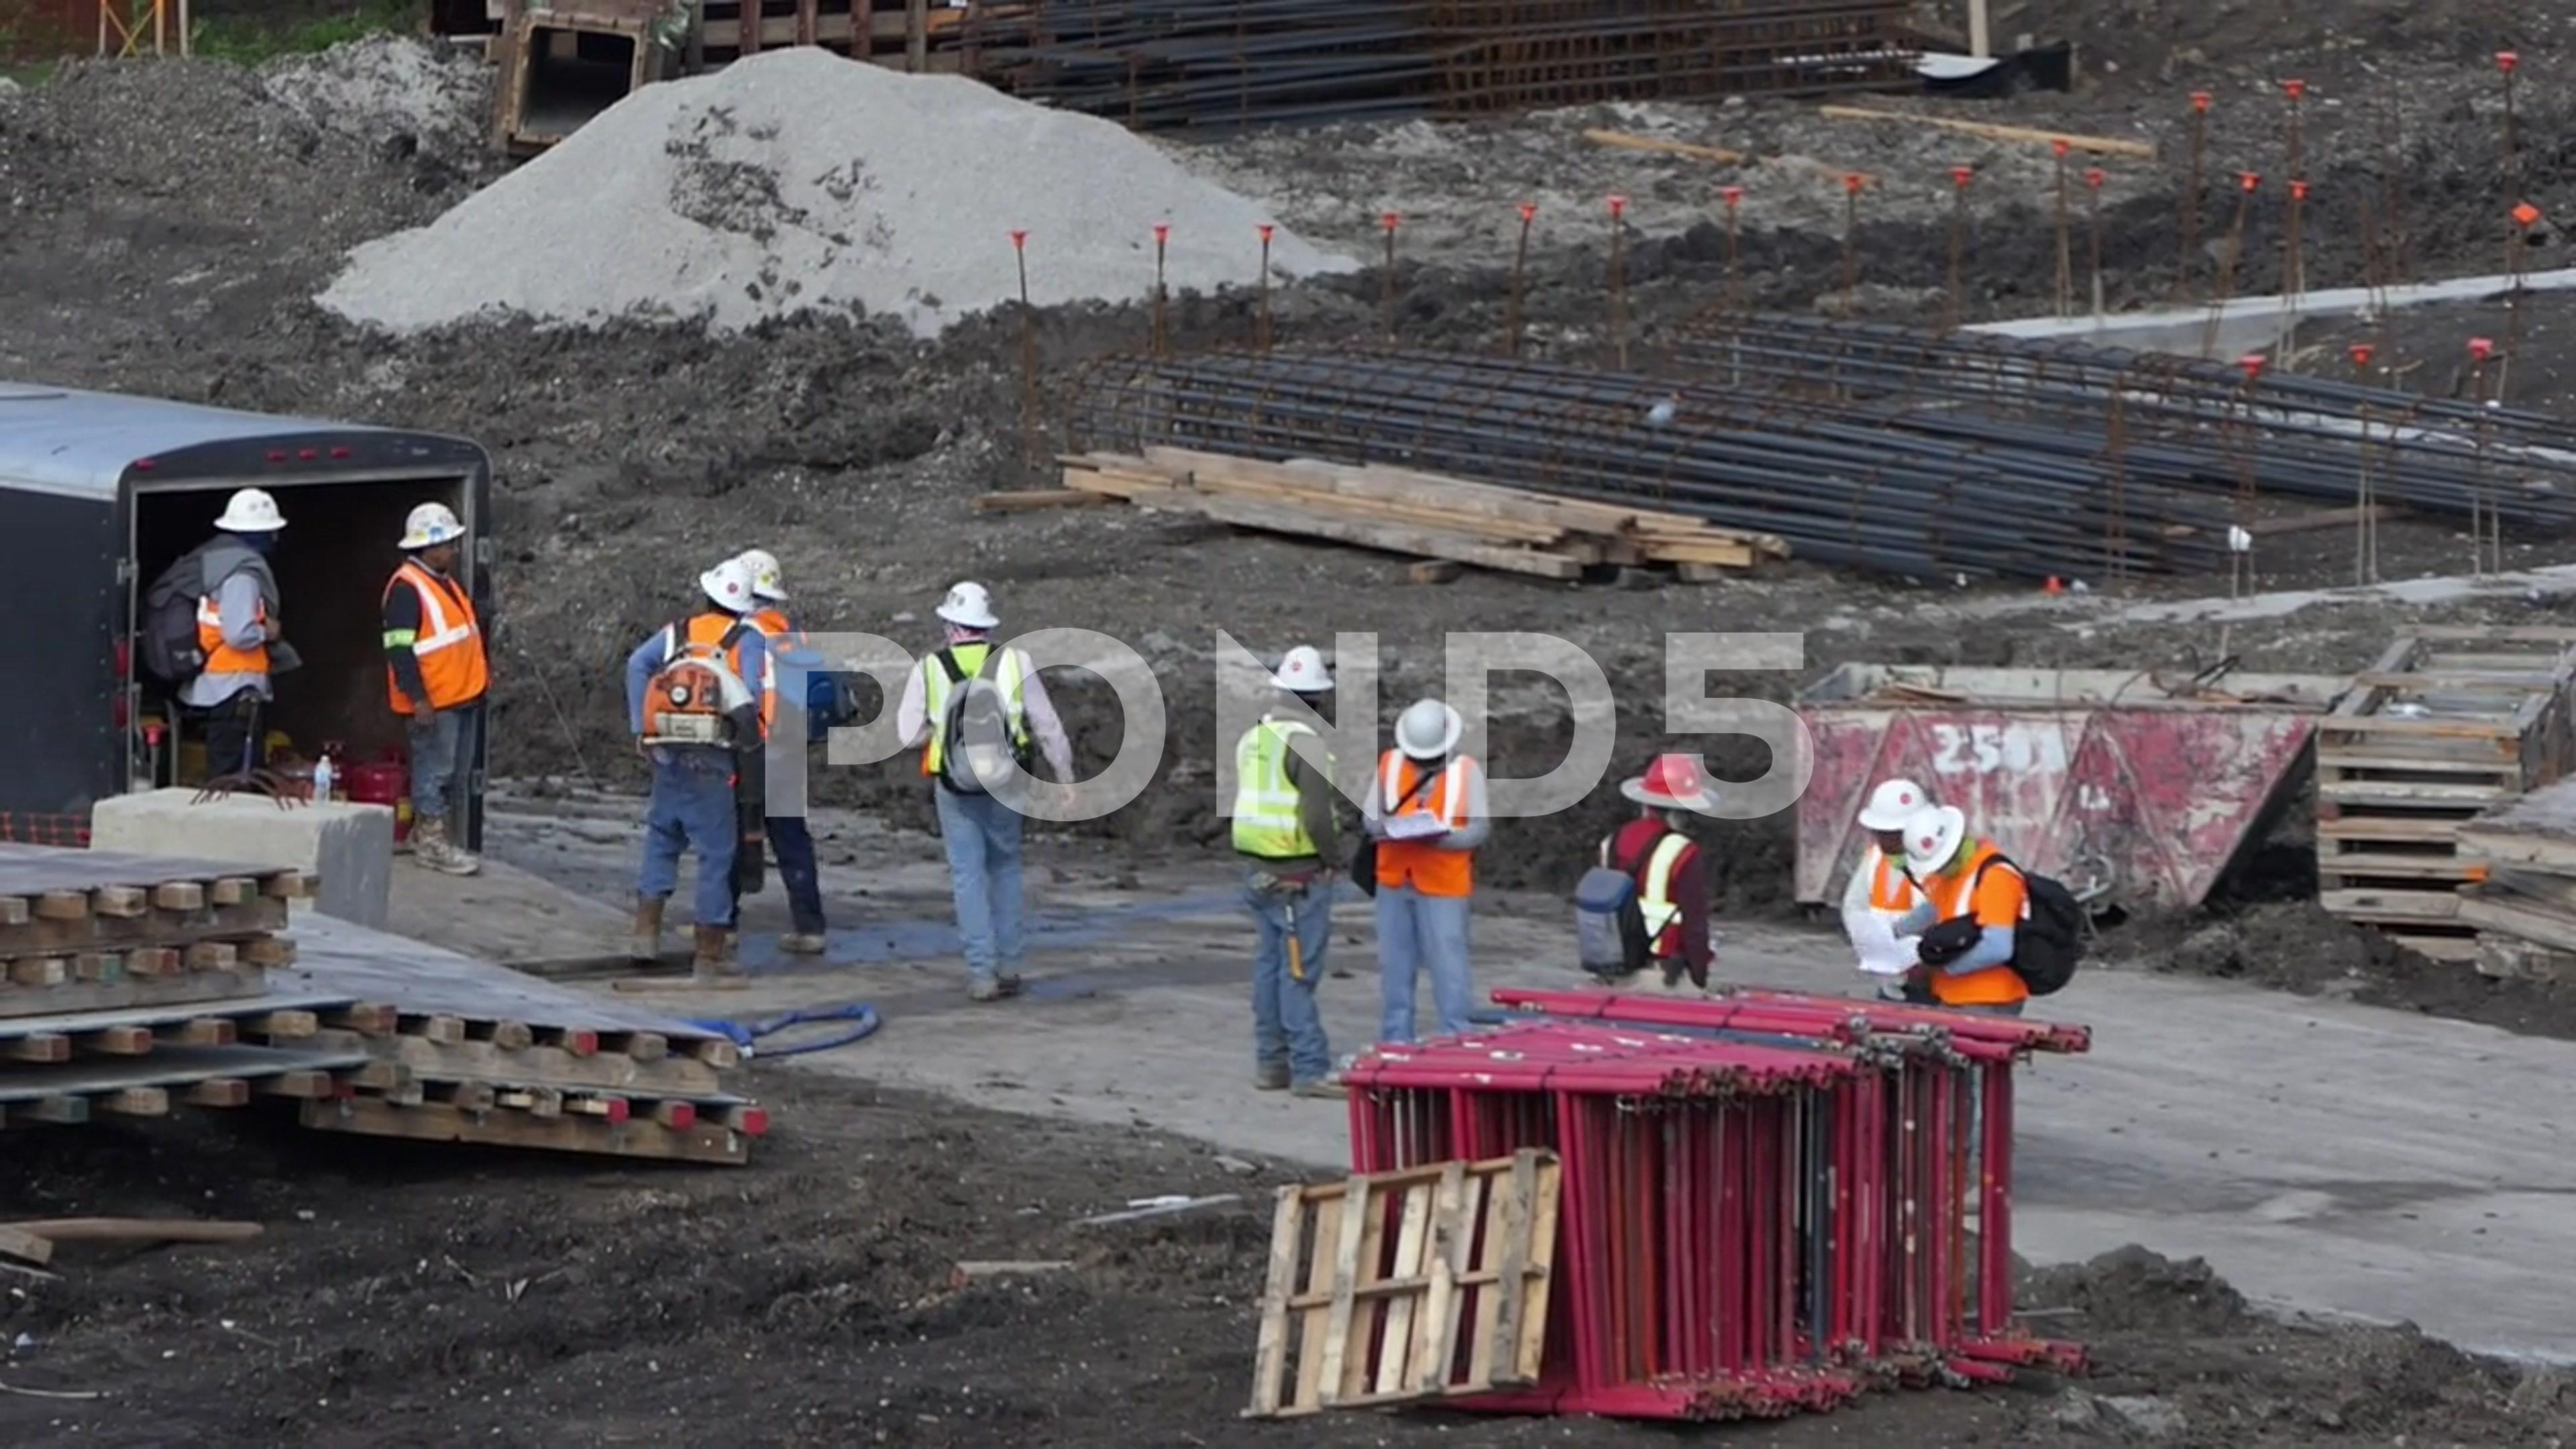hat: (1608, 720, 1737, 853), (370, 464, 497, 596), (922, 538, 1030, 665), (1838, 741, 1939, 870), (1263, 625, 1364, 750), (1897, 786, 1996, 908), (1391, 669, 1495, 780), (223, 455, 313, 566), (727, 517, 821, 614), (678, 552, 766, 648)
vest: (886, 625, 1074, 835), (354, 550, 504, 796), (1221, 713, 1371, 918), (1580, 814, 1716, 1030), (639, 619, 784, 794), (1914, 826, 2022, 1033), (189, 525, 285, 757), (1380, 743, 1507, 908), (718, 614, 819, 794), (1824, 844, 1928, 1005)
